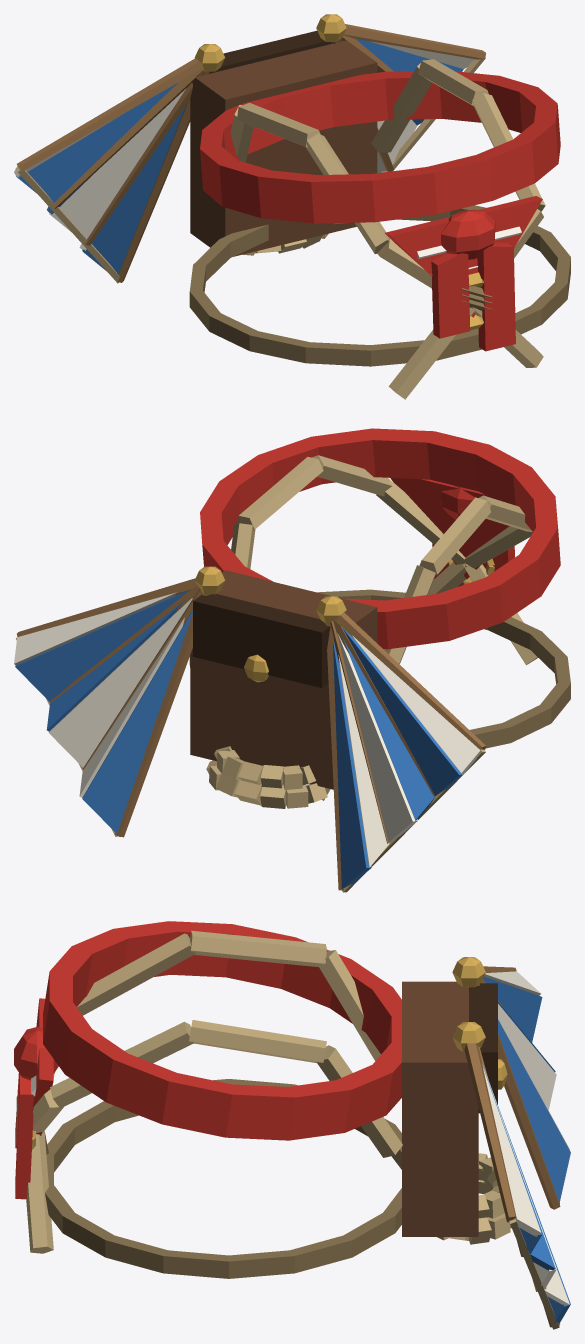
Rendered from sky_pirate_rig.glb.
3 views of the same model, one above another, from view 1: azimuth 30°, elevation 25°; view 2: azimuth 150°, elevation 25°; view 3: azimuth 270°, elevation 25° (orthographic). The views are drawn at different scales.
Parts seen in each view (by area): view 1: sky_pirate_rig; view 2: sky_pirate_rig; view 3: sky_pirate_rig.
Boxes of the visible parts, x1,y1,x2,y2 form: sky_pirate_rig: (14, 14, 570, 399); sky_pirate_rig: (14, 428, 570, 892); sky_pirate_rig: (14, 921, 570, 1329).
Bounding box in the file's own units: 1.23 × 0.6687 × 1.16.
